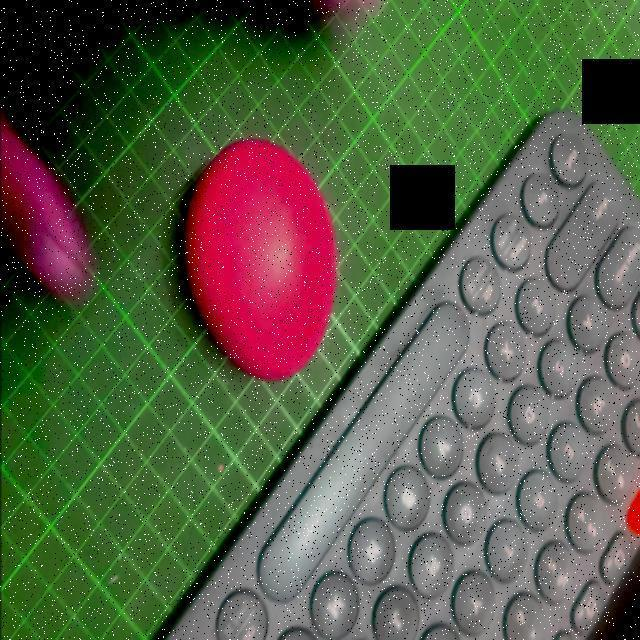egg: (182, 134, 342, 388)
